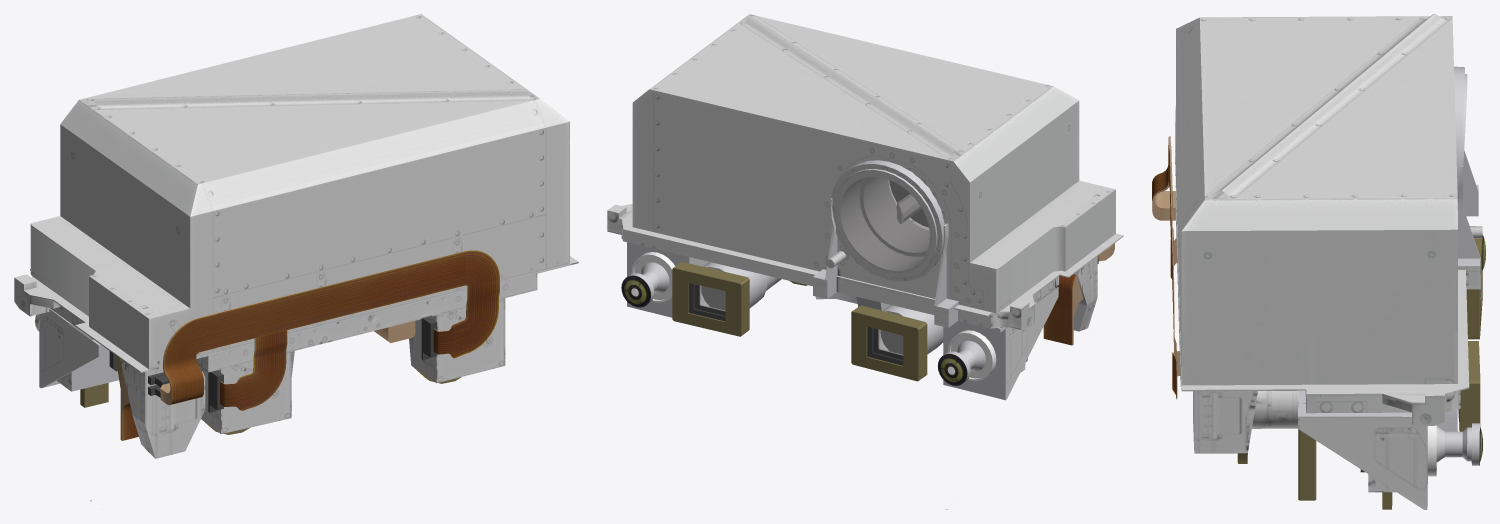
The model's file is cam0_head.glb.
3 renders of one model, left to right at view 1: azimuth 30°, elevation 25°; view 2: azimuth 150°, elevation 25°; view 3: azimuth 270°, elevation 25°, orthographic. The views are drawn at different scales.
Visible parts, largest first — view 1: head.001, Mastcam_Z_cams, NavCams; view 2: head.001, Mastcam_Z_cams, lens, NavCams; view 3: head.001, NavCams, Mastcam_Z_cams, lens.
Part boxes in pixels (bbox=[...]): head.001: bbox=[14, 14, 578, 458]; Mastcam_Z_cams: bbox=[198, 298, 505, 434]; NavCams: bbox=[35, 308, 122, 407]; head.001: bbox=[607, 14, 1123, 345]; Mastcam_Z_cams: bbox=[672, 261, 943, 381]; lens: bbox=[831, 160, 944, 281]; NavCams: bbox=[621, 235, 1058, 400]; head.001: bbox=[1152, 14, 1480, 425]; NavCams: bbox=[1298, 235, 1485, 509]; Mastcam_Z_cams: bbox=[1193, 238, 1482, 463]; lens: bbox=[1454, 66, 1467, 201].
Size of the model in its own units: 0.5497 by 0.4541 by 0.3121.
12 materials, 5 textured.
